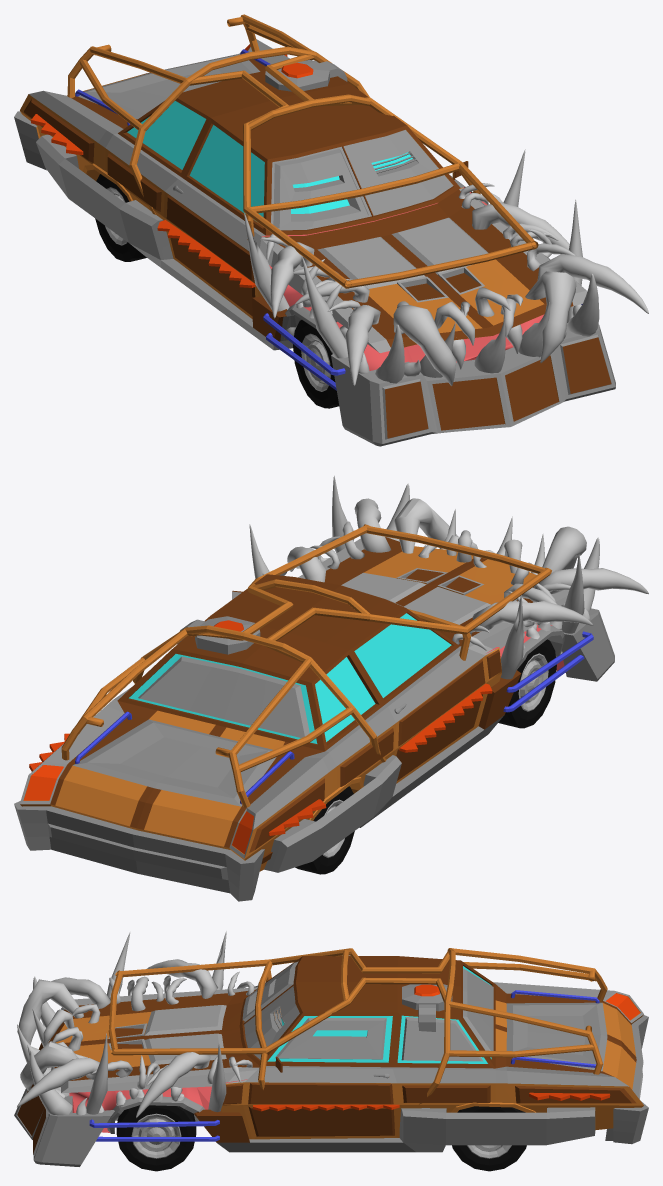
File: monstercar_new.fbx
The picture shows the model from 3 angles, top to bottom: view 1: azimuth 30°, elevation 25°; view 2: azimuth 150°, elevation 25°; view 3: azimuth 270°, elevation 25°; orthographic projection. The views are drawn at different scales.
Parts seen in each view (by area): view 1: monster-car, dıs_alt_1, ust_agız.001, monster-car.001, dıs-25, dıs-16, on_tekerler, dıs-26, dıs_alt_1.005, dıs-14, dıs-33, dıs-3 (+9 smaller); view 2: monster-car, ust_agız.001, monster-car.001, dıs_alt_1, on_tekerler, dıs-3, dıs-14, dıs-25, dıs-16, arka_tekerler, dıs-26, alt_agız.001 (+3 smaller); view 3: monster-car, ust_agız.001, dıs_alt_1, monster-car.001, on_tekerler, arka_tekerler, dıs-16, dıs-33, dıs-26, dıs-25, dıs-3, dıs_alt_1.015 (+7 smaller).
Part boxes in pixels (x1,y1,x2,y2): monster-car: (14,14,538,350); dıs_alt_1: (252,296,615,446); ust_agız.001: (260,187,586,352); monster-car.001: (75,53,260,119); dıs-25: (525,271,576,362); dıs-16: (393,304,456,385); on_tekerler: (293,320,339,408); dıs-26: (537,254,648,313); dıs_alt_1.005: (302,256,347,358); dıs-14: (345,305,380,385); dıs-33: (472,202,569,249); dıs-3: (270,242,314,318); monster-car: (14,524,551,901); ust_agız.001: (298,498,584,655); monster-car.001: (73,719,276,806); dıs_alt_1: (478,608,614,729); on_tekerler: (498,639,556,728); dıs-3: (472,601,593,630); dıs-14: (534,568,648,594); dıs-25: (394,498,457,553); dıs-16: (542,526,586,572); arka_tekerler: (295,786,354,874); dıs-26: (354,498,390,552); alt_agız.001: (500,595,523,679); monster-car: (108,948,648,1152); ust_agız.001: (48,987,259,1093); dıs_alt_1: (14,1043,249,1166); monster-car.001: (506,1002,607,1071); on_tekerler: (116,1105,196,1171); arka_tekerler: (452,1106,526,1171); dıs-16: (17,979,83,1044); dıs-33: (136,1052,210,1117); dıs-26: (17,1058,99,1107); dıs-25: (20,1041,78,1090); dıs-3: (147,959,217,998); dıs_alt_1.015: (86,1033,107,1114).
Bounding box in the file's own units: 244 × 150 × 526.
